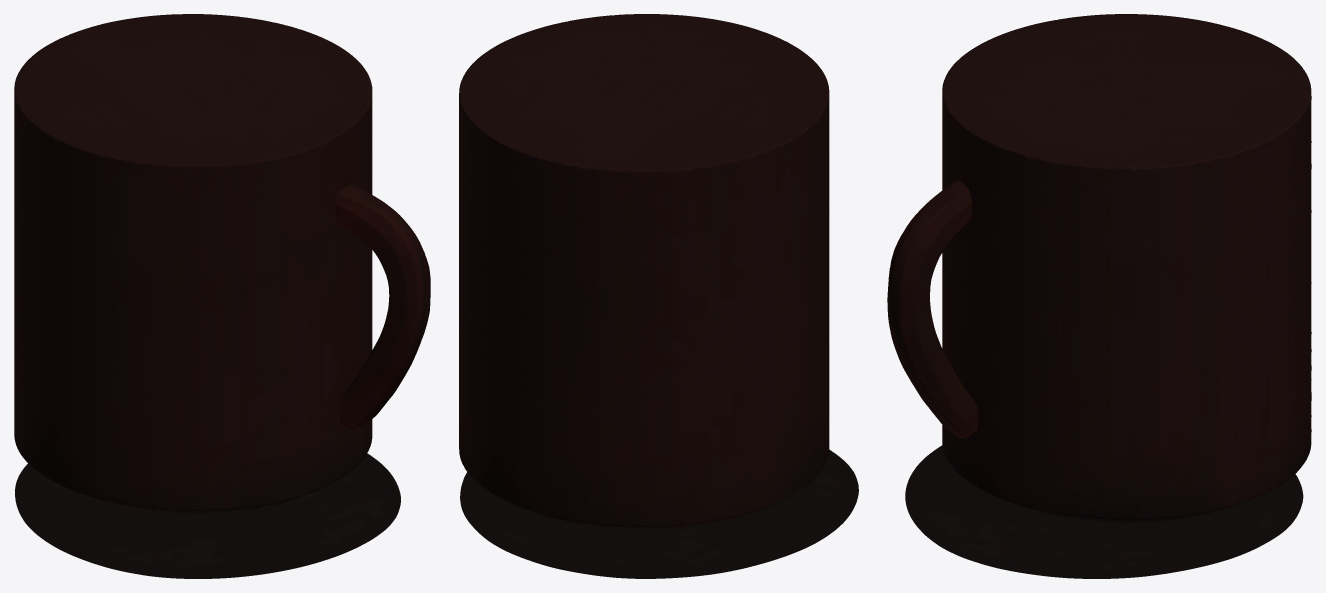
3 views of the same model, side by side, from view 1: azimuth 30°, elevation 25°; view 2: azimuth 150°, elevation 25°; view 3: azimuth 270°, elevation 25° (orthographic). The views are drawn at different scales.
Parts seen in each view (by area): view 1: world; view 2: world; view 3: world.
Part boxes in pixels (x1,y1,x2,y2): world: (14, 14, 430, 578); world: (459, 14, 858, 578); world: (887, 14, 1311, 578).
Size of the model in its own units: 0.8739 by 1 by 0.948.
Materials: 1 (1 with a texture image).
